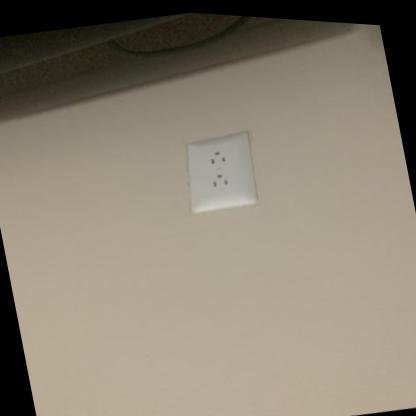OUTLET: (176, 123, 264, 220)
